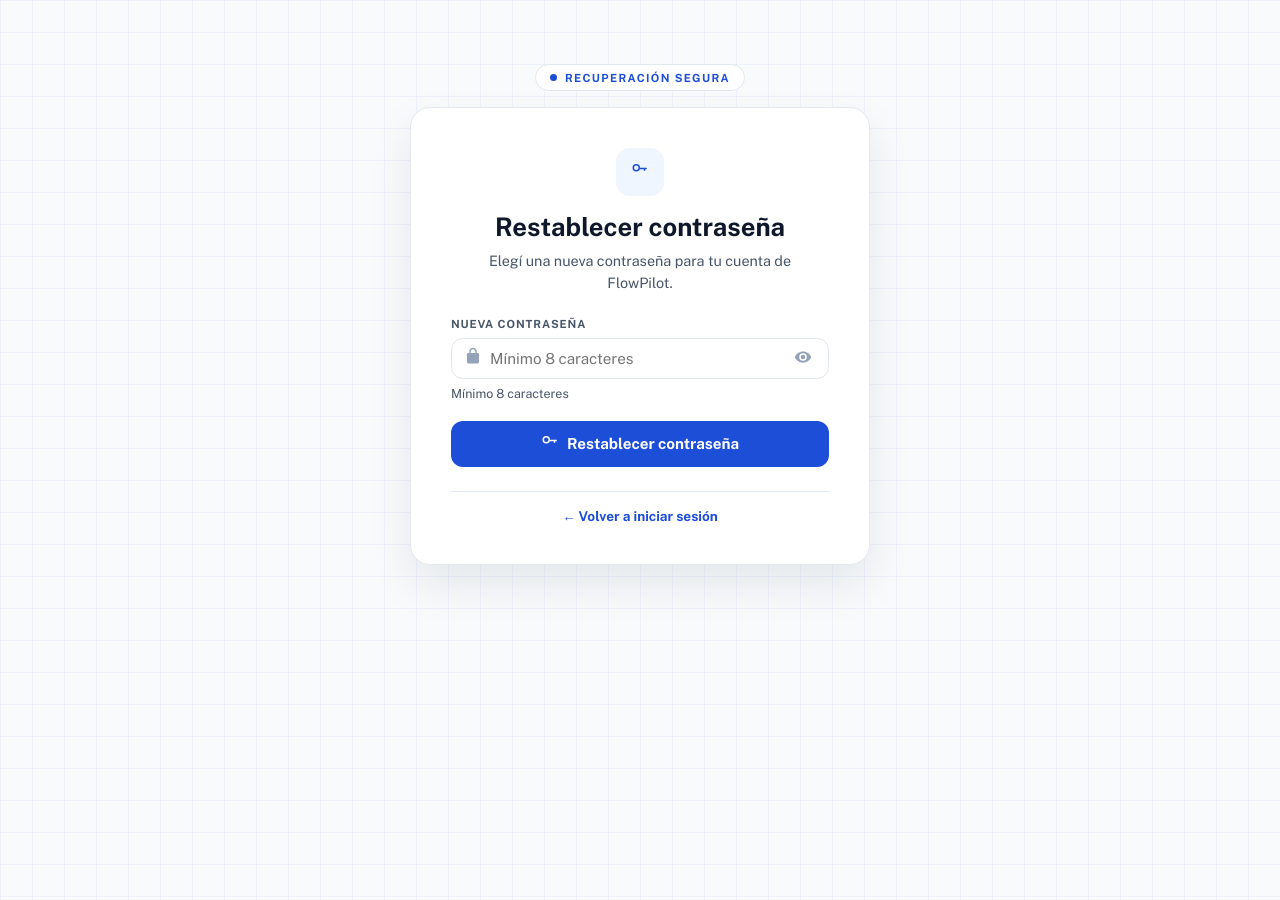
Test: ResetPasswordComponent › renders the field validation message on the password input instead of the banner
Type "short" into the password field with test id "reset-password-new-password" at (636, 358), box top-left (490, 339), bottom-right (782, 378)
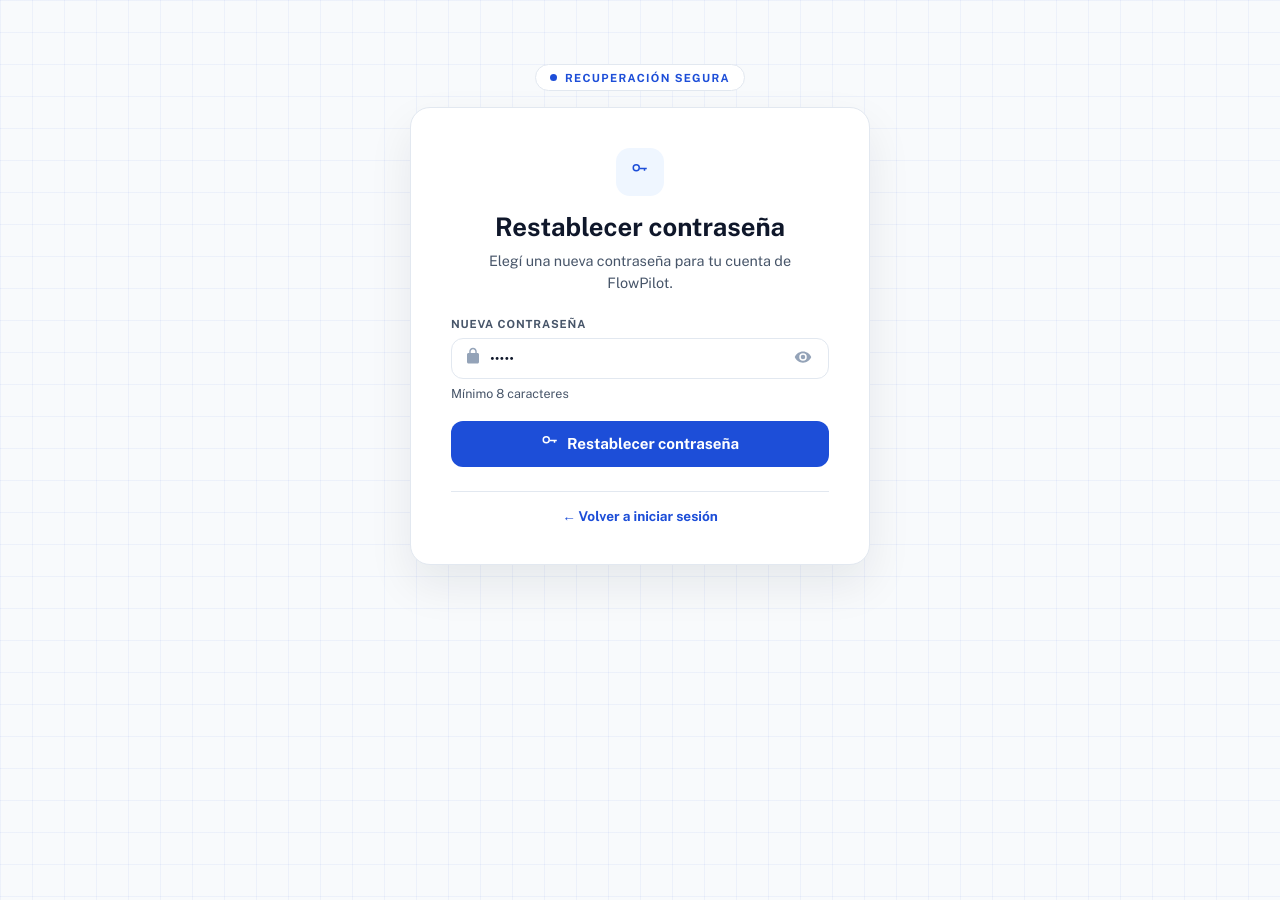
Submit the form, box top-left (451, 317), bottom-right (829, 467)
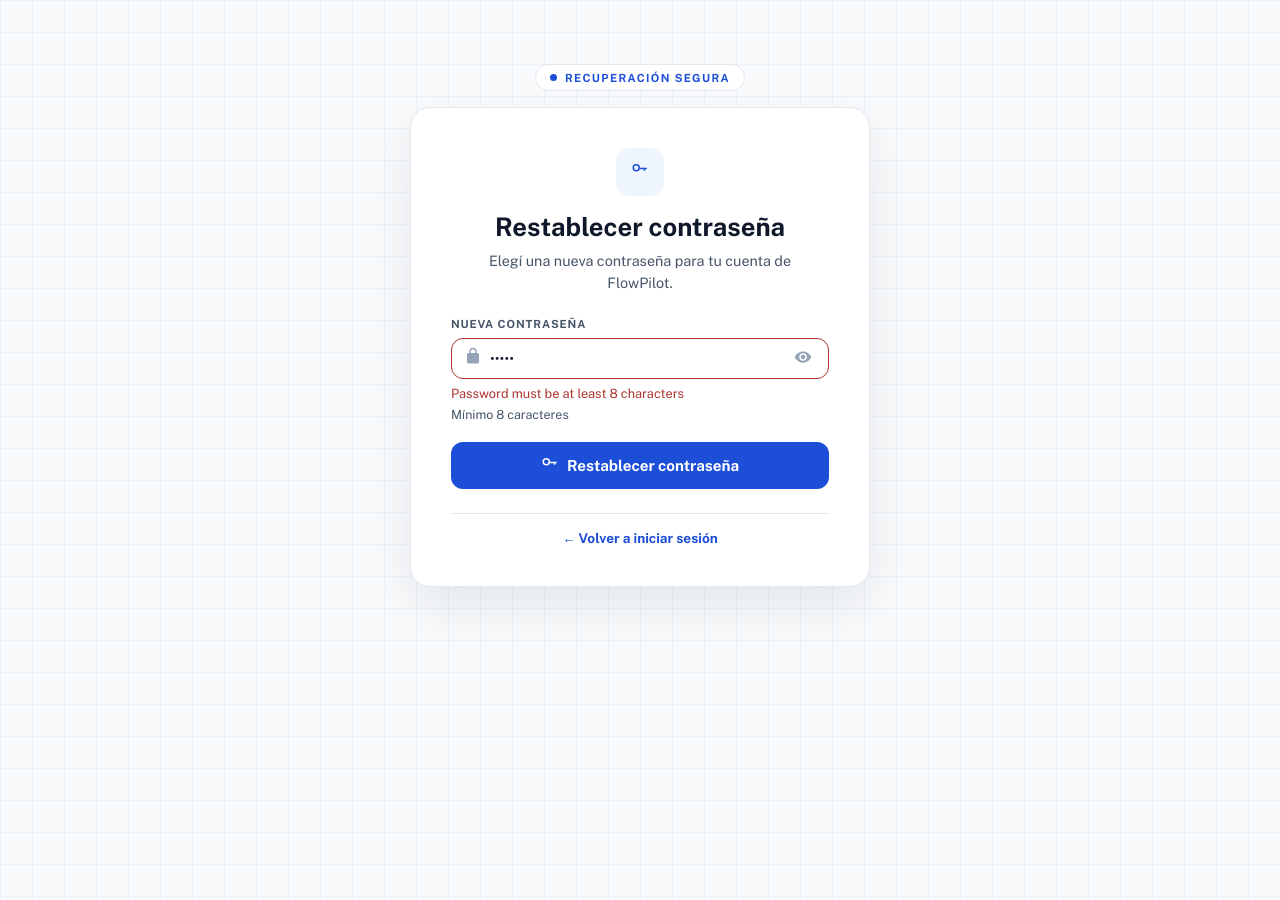
Expected: the text with class "auth-field__error" reads "Password must be at least 8 characters", top-left (451, 386), bottom-right (684, 401)
